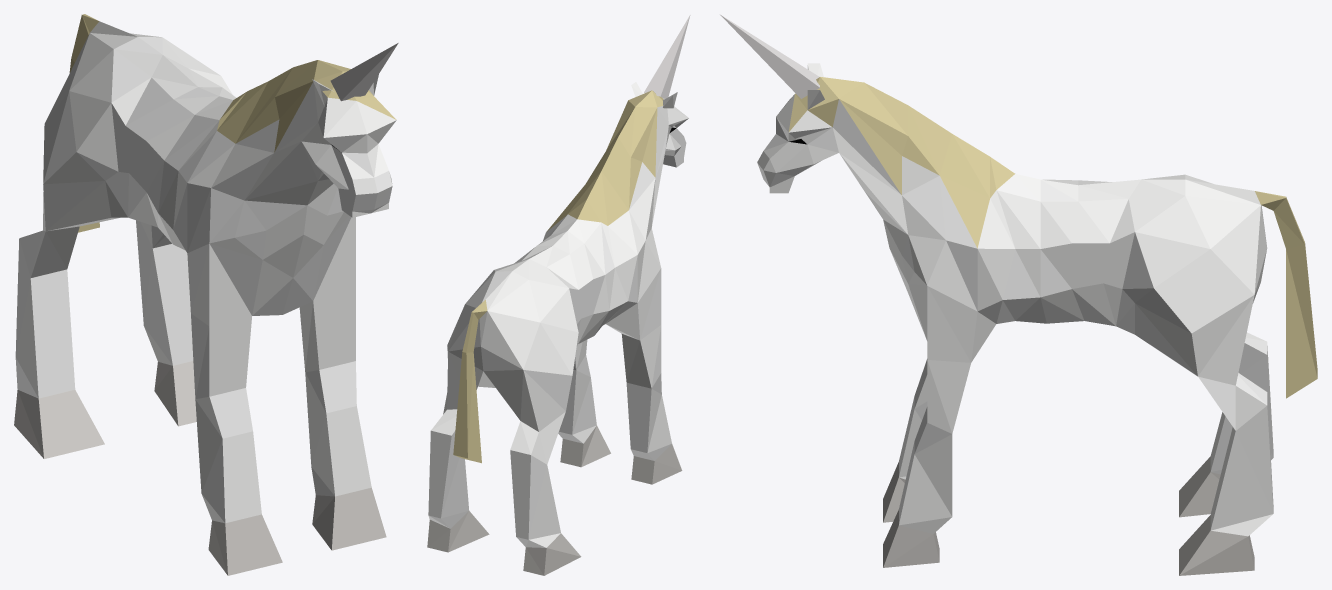
The model's file is model_2933_npc.obj.
3 views of the same model, side by side, from view 1: azimuth 30°, elevation 25°; view 2: azimuth 150°, elevation 25°; view 3: azimuth 270°, elevation 25° (orthographic). The views are drawn at different scales.
Parts seen in each view (by area): view 1: 2933; view 2: 2933; view 3: 2933.
Boxes of the visible parts, <box> form: 2933: <box>14,14,398,575</box>; 2933: <box>427,15,690,575</box>; 2933: <box>720,14,1317,575</box>.
Bounding box in the file's own units: 64 × 182 × 190.
